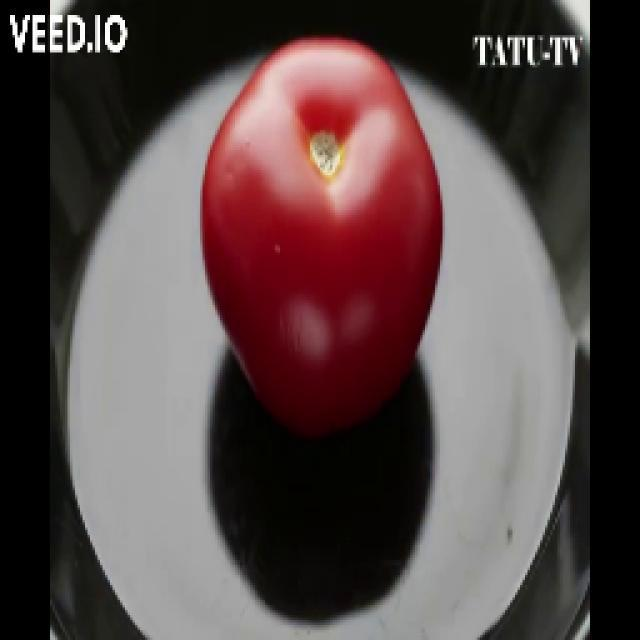tomato: (199, 37, 444, 444)
